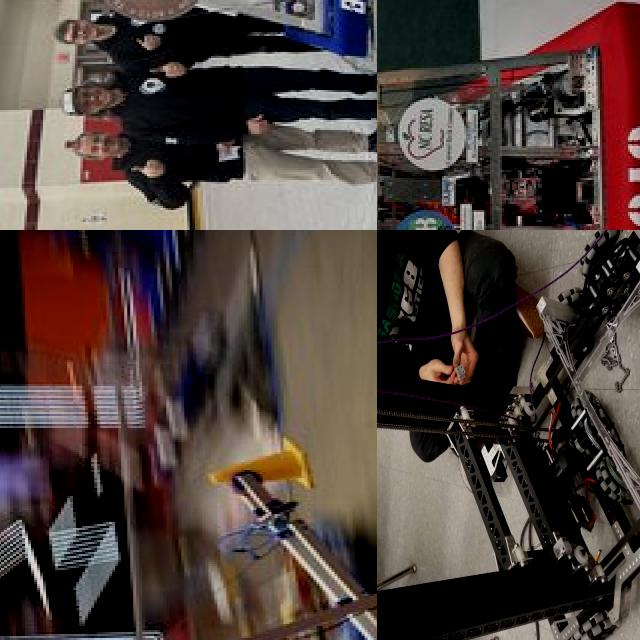FRC-Robots: (377, 230, 640, 640), (0, 471, 377, 640), (377, 0, 640, 230), (198, 499, 376, 640), (77, 0, 377, 56)
